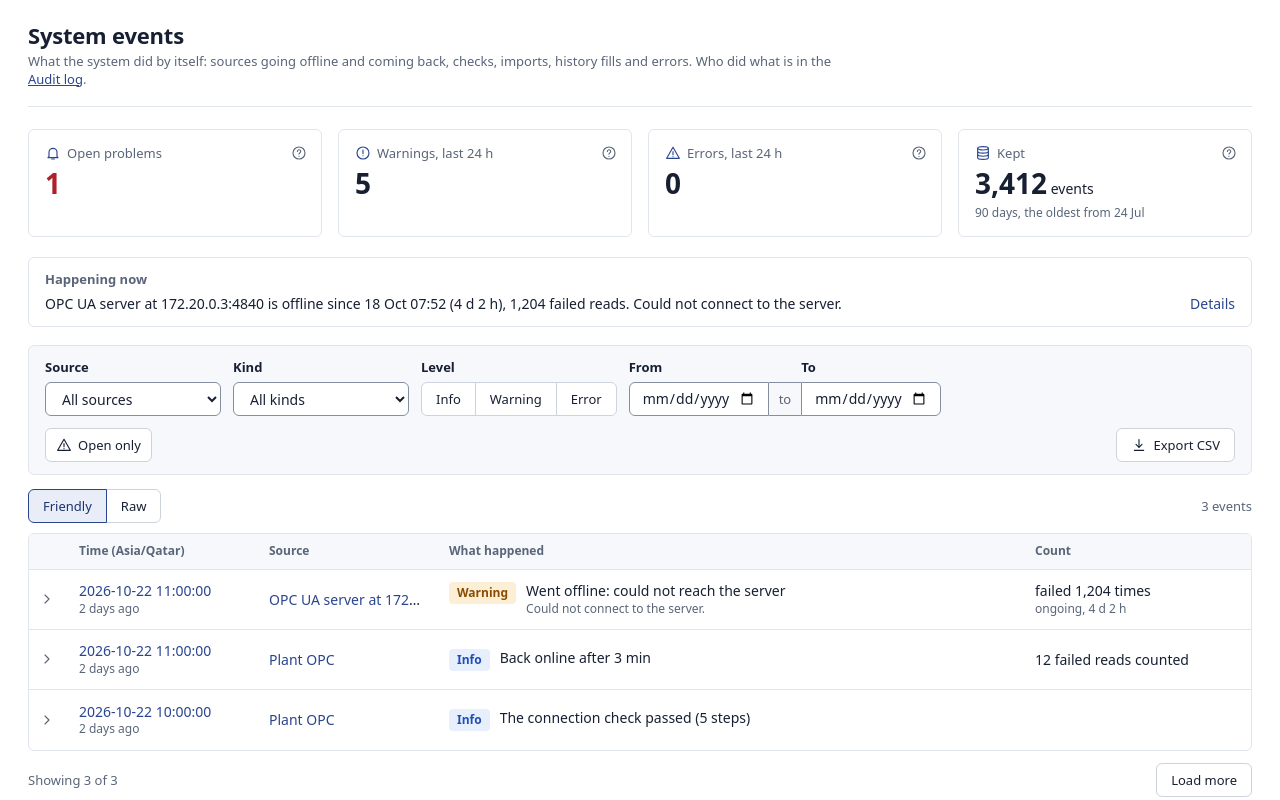
Test: EventsPage: filters and paging (w32) › shows the error of a page that could not be read, next to the button, and keeps the rows
Expected: the row "OPC UA server" is shown, [29,570,1251,630]
Click the button "Load more" at [1204, 780], box [1156,763,1252,797]
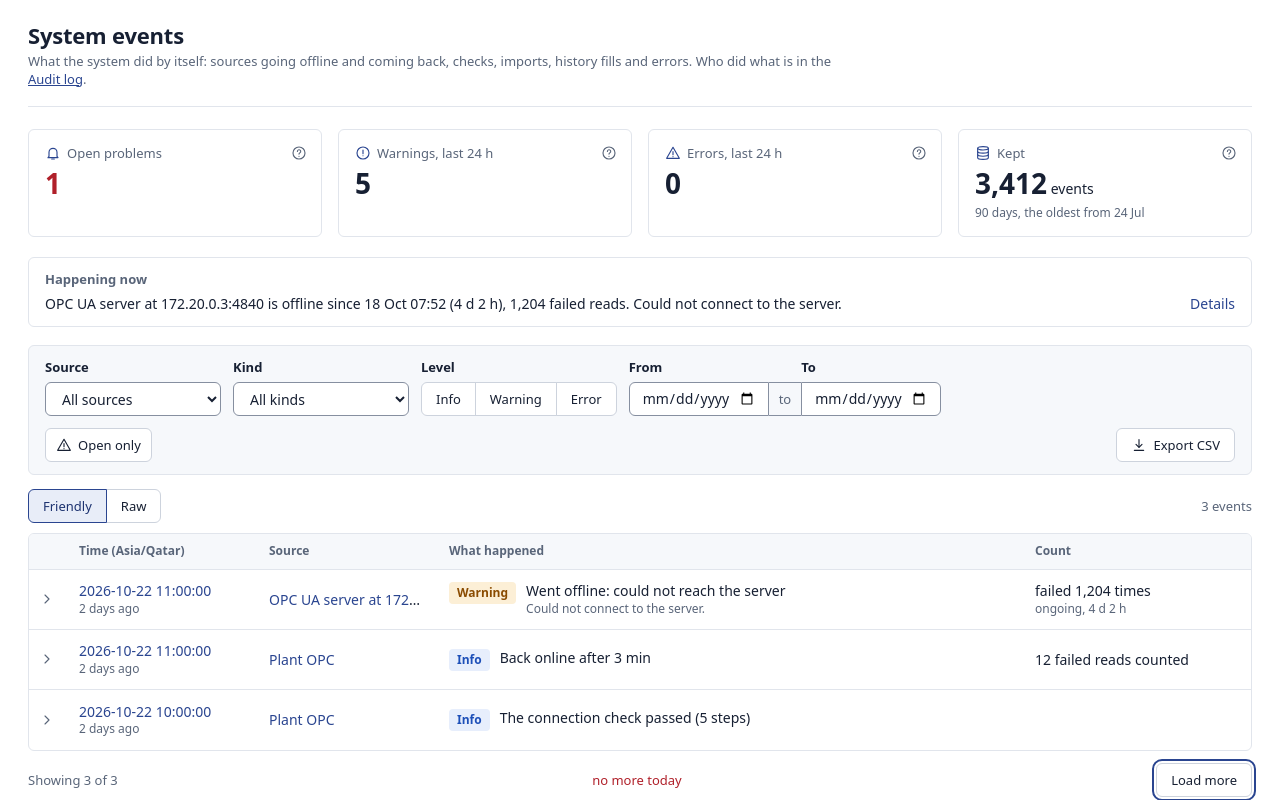
Expected: the row "OPC UA server" is shown, [29,570,1251,630]
Now the message reads "no more today", box [592,771,682,789]
